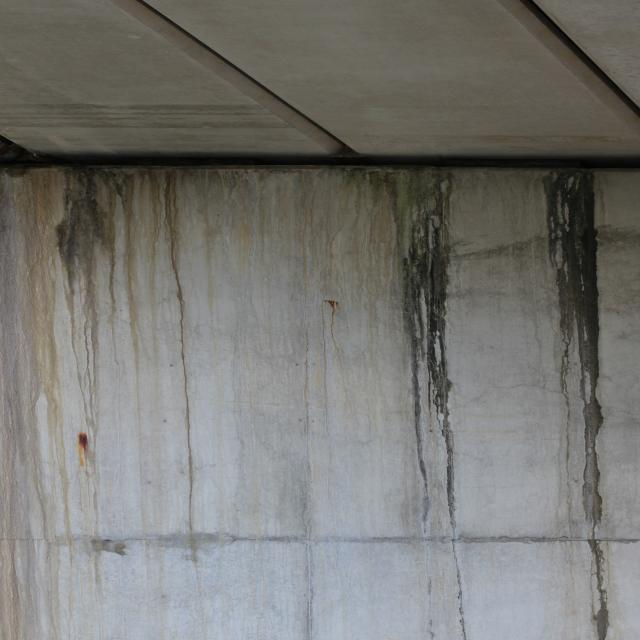corrosion: (0, 161, 126, 632), (136, 164, 400, 334), (321, 294, 351, 367), (73, 430, 93, 466)
